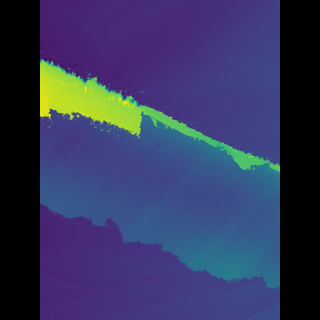Loch: (69, 58, 249, 292)
